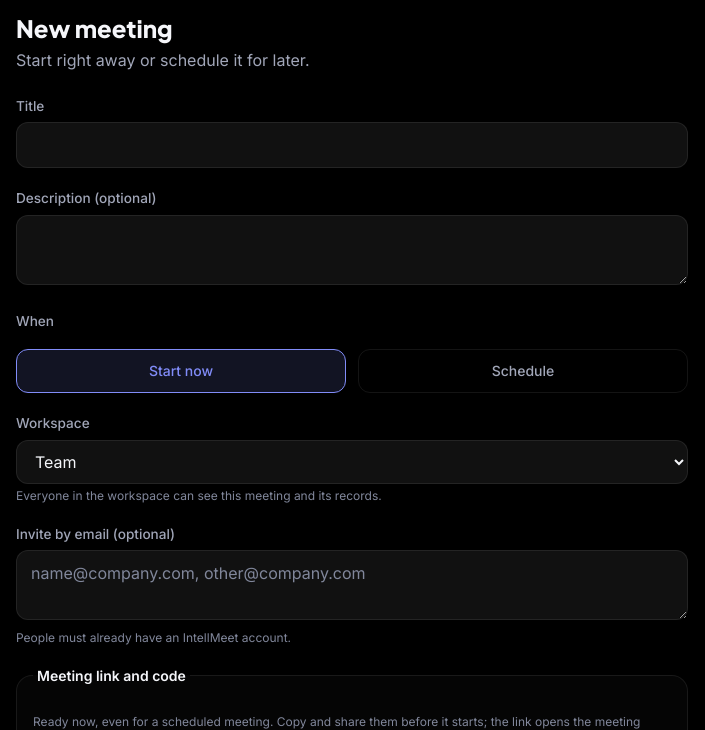
CreateMeeting › language options come from the API list; invalid invitee emails block submit
Type "X" into the field labelled "Title". click: (352, 145)
box: [16,122,688,168]
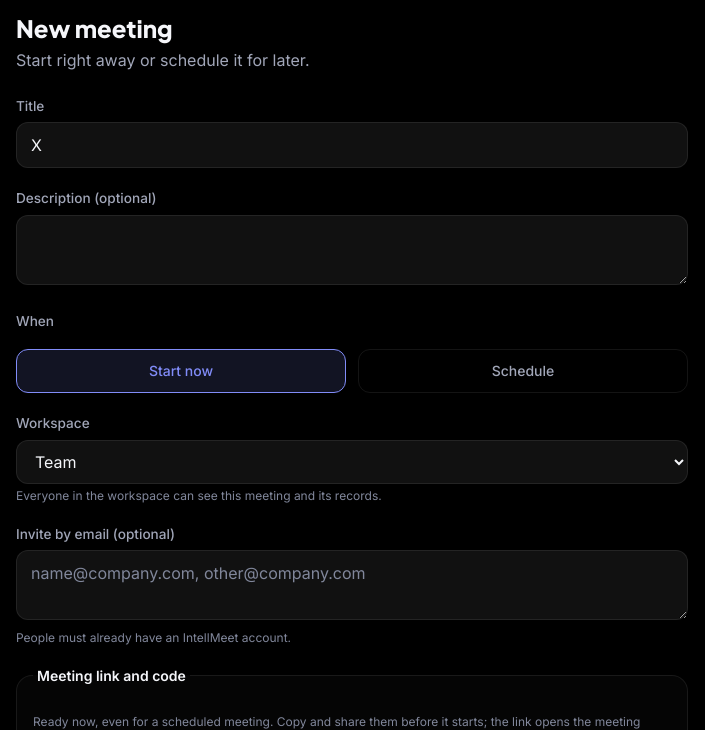
Type "not-an-email" into the text box labelled "Invite by email (optional)". click: (352, 585)
box: [16,550,688,620]
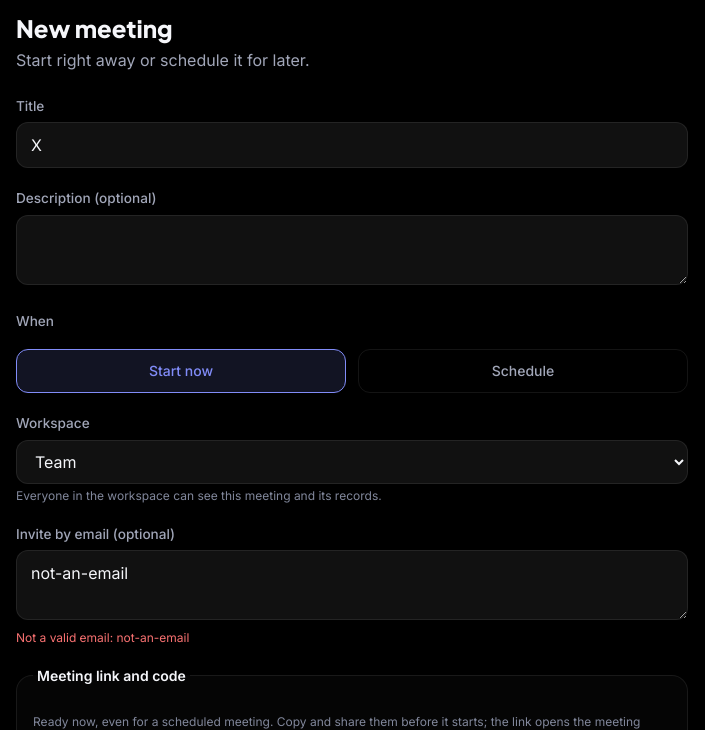
Expected: the text "Not a valid email: not-an-email" is shown, [16,630,189,645]
